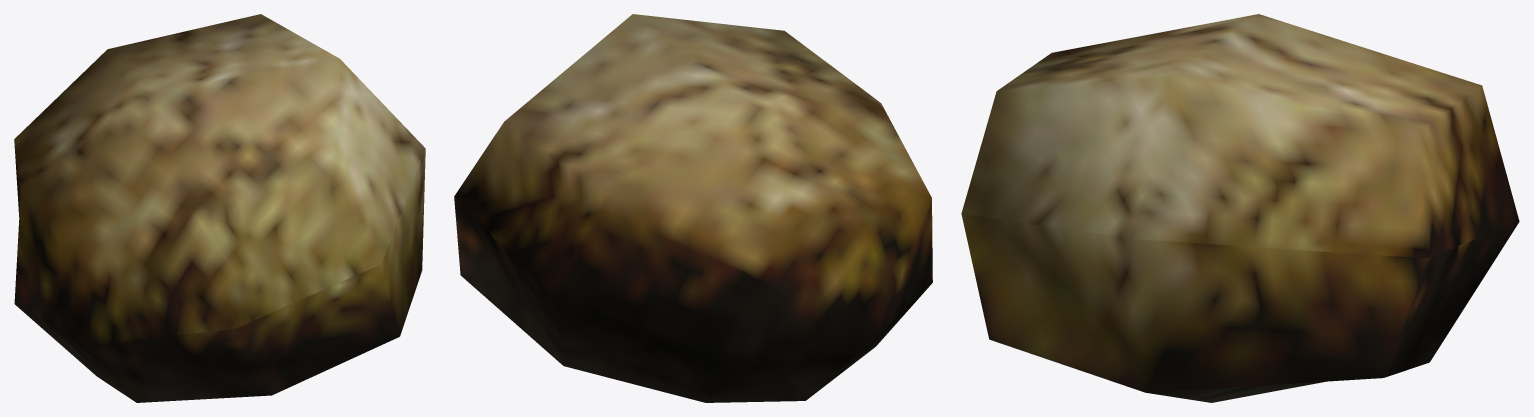
Rendered from stone04.FBX.
3 renders of one model, left to right at view 1: azimuth 30°, elevation 25°; view 2: azimuth 150°, elevation 25°; view 3: azimuth 270°, elevation 25°, orthographic. The views are drawn at different scales.
Parts seen in each view (by area): view 1: stone04; view 2: stone04; view 3: stone04.
Boxes of the visible parts, x1,y1,x2,y2 form: stone04: (14,14,425,402); stone04: (454,14,932,402); stone04: (961,14,1519,402).
Bounding box in the file's own units: 457 × 362 × 505.
